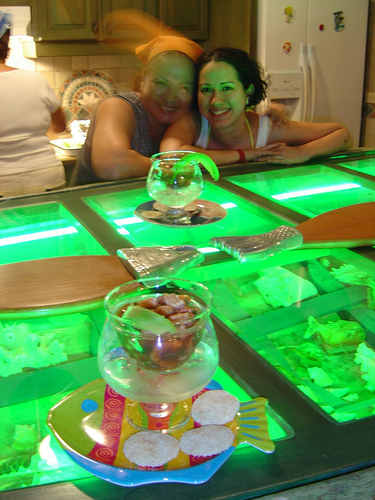without_mask: (135, 57, 195, 123), (195, 60, 253, 127)
